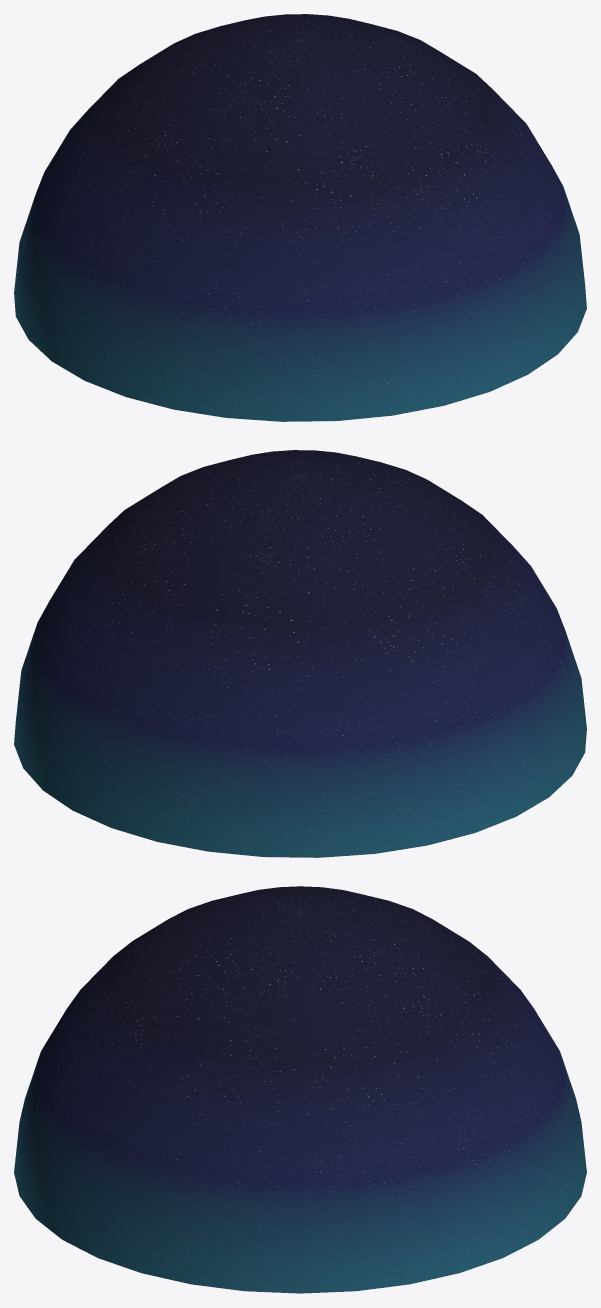
Rendered from OnsenStage.fbx.
The picture shows the model from 3 angles, top to bottom: view 1: azimuth 30°, elevation 25°; view 2: azimuth 150°, elevation 25°; view 3: azimuth 270°, elevation 25°; orthographic projection.
Visible parts, largest first — view 1: A01_Sky; view 2: A01_Sky; view 3: A01_Sky.
Part boxes in pixels (bbox=[...]): A01_Sky: bbox=[14, 14, 586, 421]; A01_Sky: bbox=[14, 450, 586, 857]; A01_Sky: bbox=[14, 886, 586, 1293].
Bounding box in the file's own units: 50 × 26.74 × 50.
